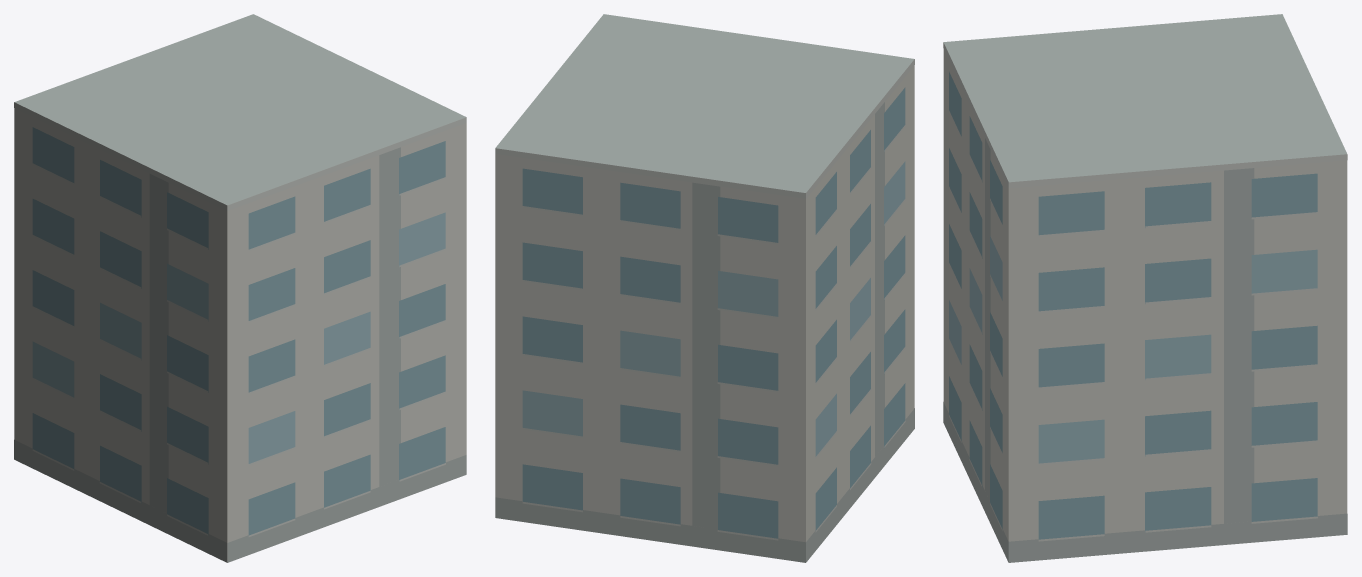
The model's file is residential-a604a391-e057-4604-be84-7a4048c9e9a6.glb.
The picture shows the model from 3 angles, left to right: view 1: azimuth 30°, elevation 25°; view 2: azimuth 150°, elevation 25°; view 3: azimuth 270°, elevation 25°; orthographic projection. The views are drawn at different scales.
Visible parts, largest first — view 1: residential-a604a391-e057-4604-be84-7a4048c9e9a6.tmp; view 2: residential-a604a391-e057-4604-be84-7a4048c9e9a6.tmp; view 3: residential-a604a391-e057-4604-be84-7a4048c9e9a6.tmp.
Part boxes in pixels (box(x1,y1,x2,y2)): residential-a604a391-e057-4604-be84-7a4048c9e9a6.tmp: box(14, 14, 466, 562); residential-a604a391-e057-4604-be84-7a4048c9e9a6.tmp: box(495, 14, 914, 562); residential-a604a391-e057-4604-be84-7a4048c9e9a6.tmp: box(943, 14, 1347, 562).
Size of the model in its own units: 14.48 by 15.25 by 14.68.
